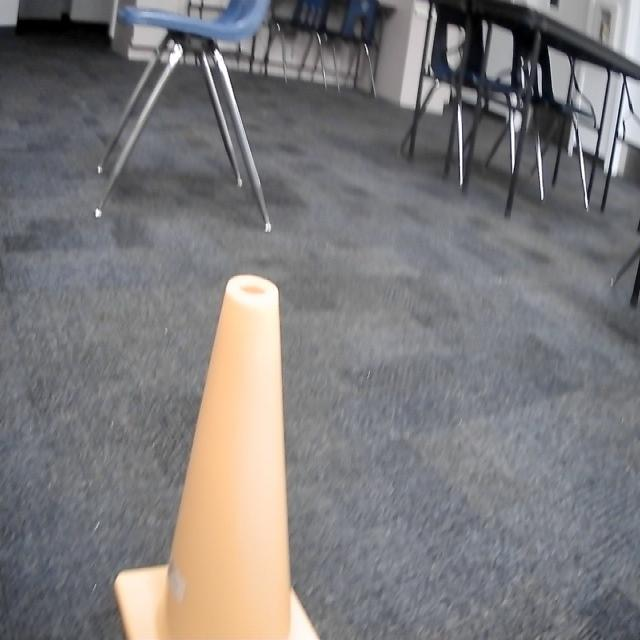cone: (110, 270, 325, 640)
